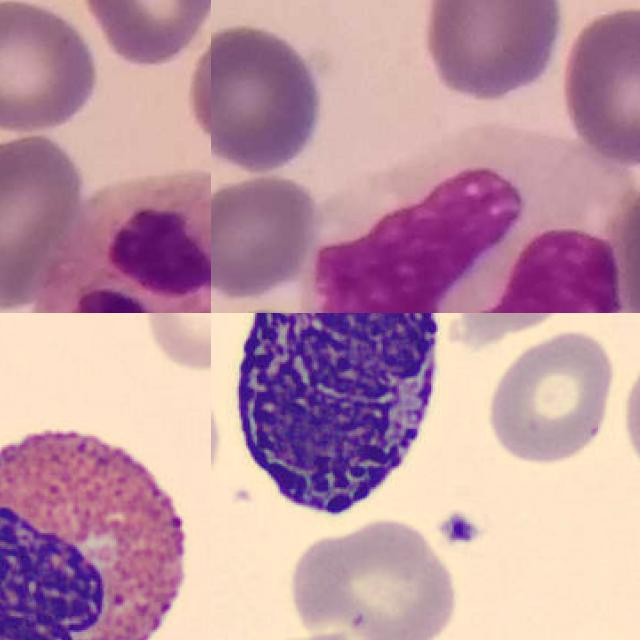Basophil: (214, 313, 457, 529)
Eosinophil: (0, 402, 204, 640)
Monocyte: (315, 122, 626, 313)
Neutrophil: (37, 170, 211, 313)
Platelets: (435, 508, 483, 549)
RBC: (285, 513, 463, 640), (481, 327, 619, 468), (443, 313, 599, 346), (139, 313, 211, 374), (619, 342, 640, 501), (240, 628, 379, 640)
